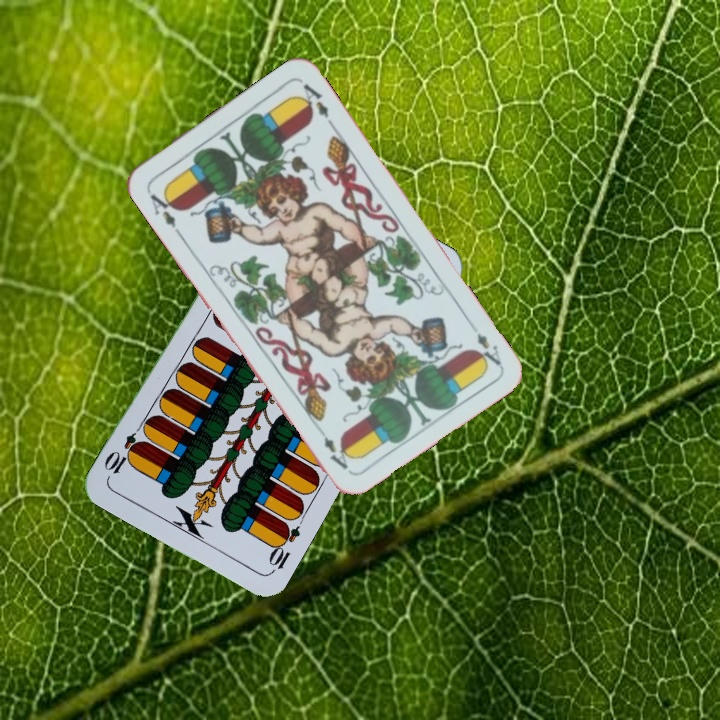E10: (264, 519, 303, 576)
EA: (143, 186, 184, 237), (470, 328, 504, 372)
